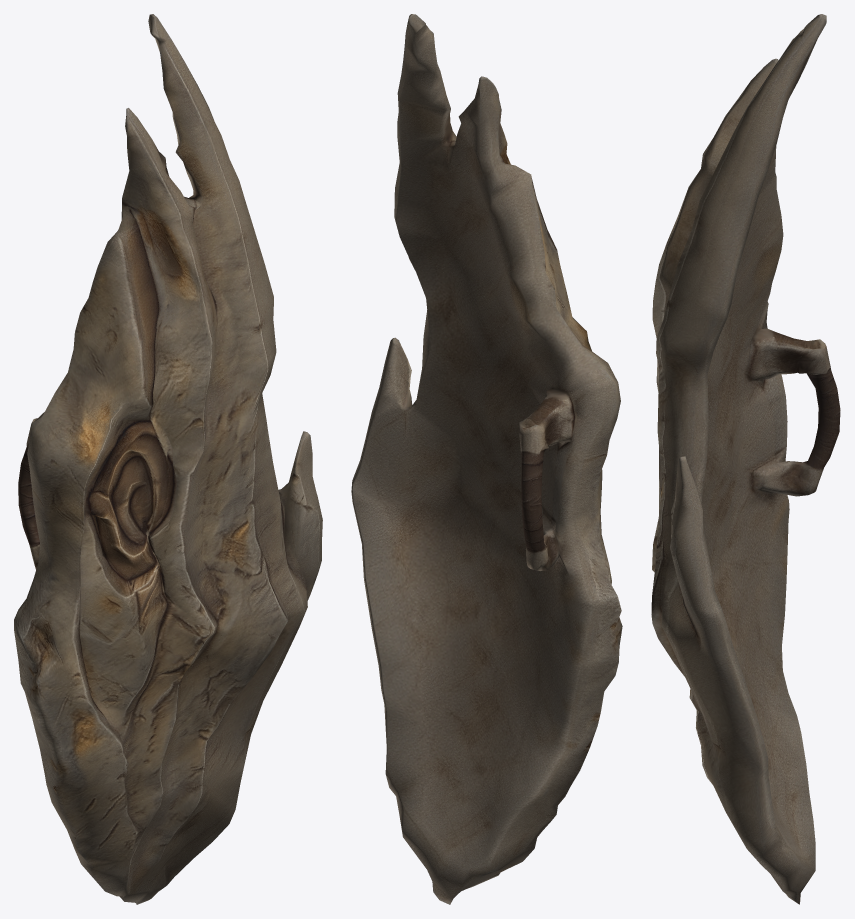
File: knight_shield.glb
The picture shows the model from 3 angles, left to right: view 1: azimuth 30°, elevation 25°; view 2: azimuth 150°, elevation 25°; view 3: azimuth 270°, elevation 25°; orthographic projection. The views are drawn at different scales.
Visible parts, largest first — view 1: Mesh_0; view 2: Mesh_0; view 3: Mesh_0.
Part boxes in pixels (<box>): Mesh_0: <box>14,14,322,904</box>; Mesh_0: <box>351,14,622,904</box>; Mesh_0: <box>651,14,840,904</box>.
Size of the model in its own units: 0.3344 by 1 by 0.1903.
1 material, 1 textured.
